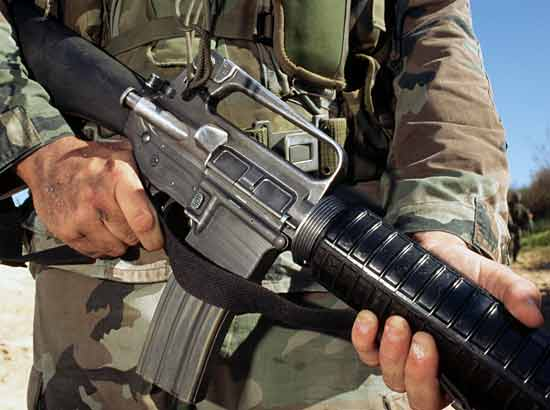rifle: (137, 30, 430, 321)
rifle in hand: (29, 64, 516, 383)
